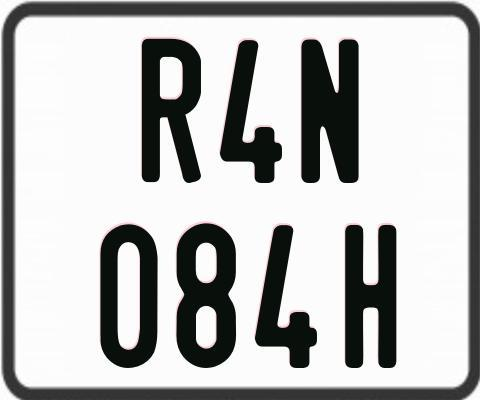0: (97, 223, 161, 371)
4: (252, 224, 318, 371), (220, 40, 285, 189)
8: (174, 223, 235, 372)
H: (343, 223, 400, 369)
N: (298, 36, 361, 183)
R: (140, 38, 201, 185)
